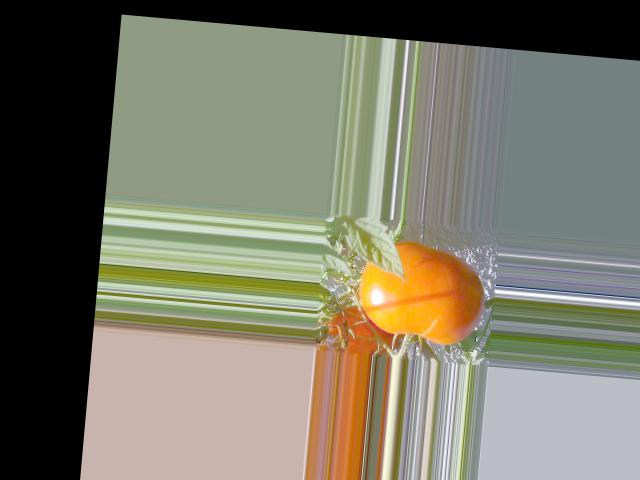tomato: (354, 237, 488, 347)
